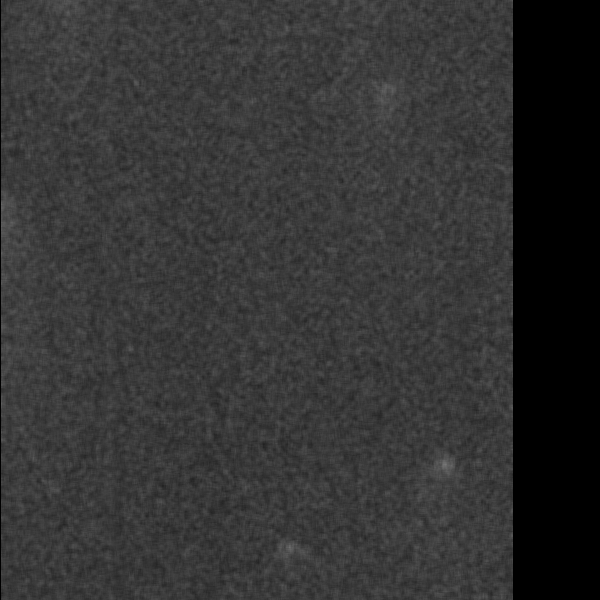spark: (376, 77, 395, 129), (434, 449, 454, 492), (275, 538, 298, 573)
